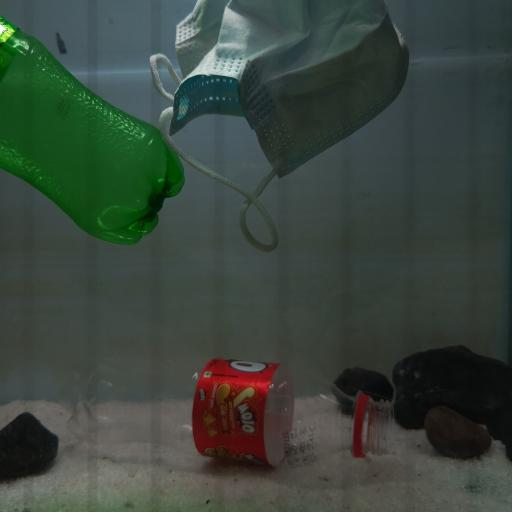mask: (150, 0, 411, 253)
plastic_bottle: (0, 14, 187, 247), (62, 354, 392, 467)
